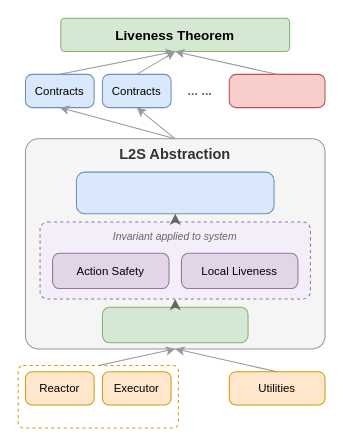
This 343x446 diagram has some shape labels left out. The box of each missing label's shape, as (x1, y1, x2, y2) in pixels:
Async Contract □ A -> ♢B: (75, 171, 274, 214)
Env Assumptions: (228, 73, 325, 108)
Logical Log: (101, 306, 248, 343)
Runtime Core: (17, 365, 178, 428)
